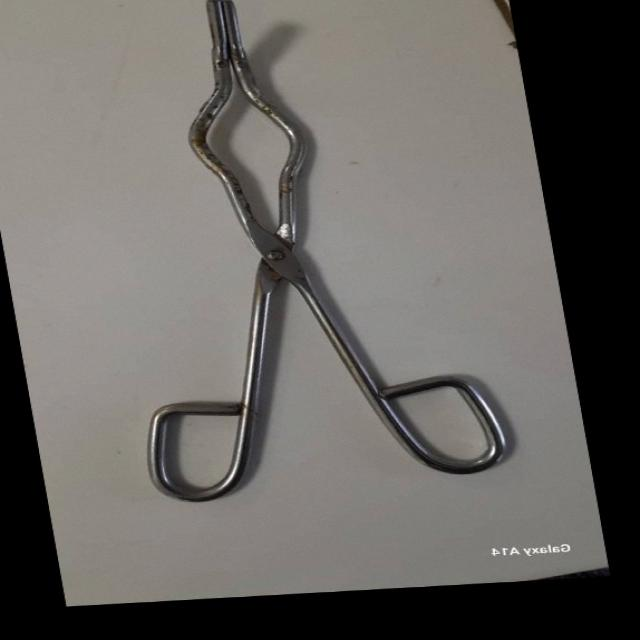Tongue: (47, 0, 531, 508)
